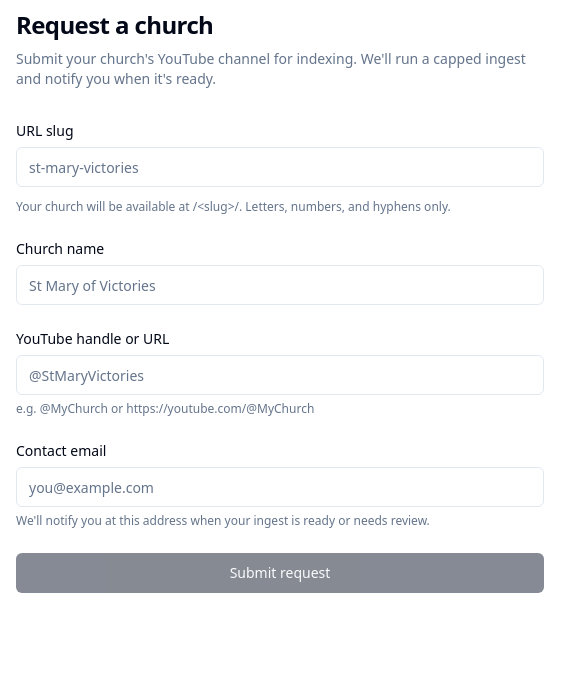
IngestPage › channel preflight callouts › request_in_flight + is_yours:true — links to /me/requests/<id> and disables submit
Type "@TestChannel" into the field labelled "YouTube handle or URL". click: coordinates (280, 375)
box: [16, 355, 544, 395]
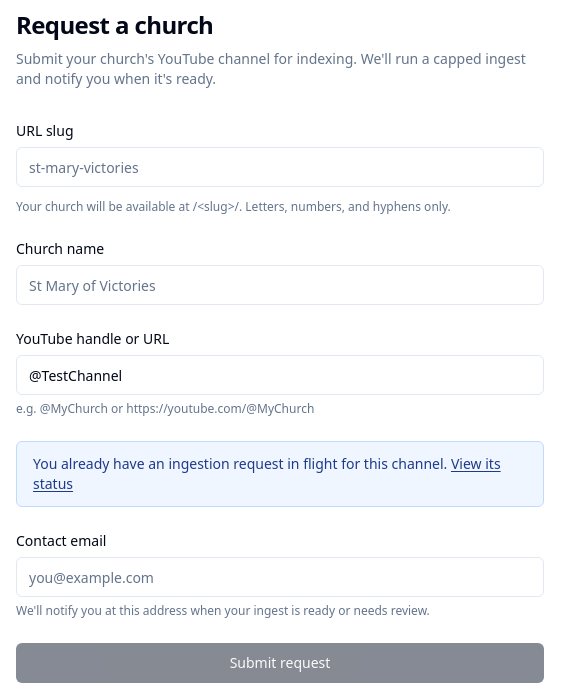
expect the button "Submit request" is disabled: met, box [16, 643, 544, 683]
expect the link "View its status" is shown: met, box [33, 454, 501, 493]
